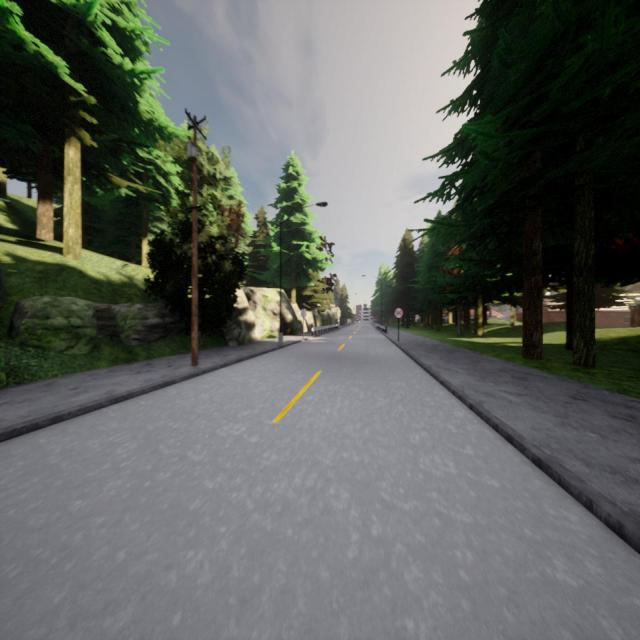Traffic_Signs: (394, 308, 403, 318), (300, 309, 306, 317)
